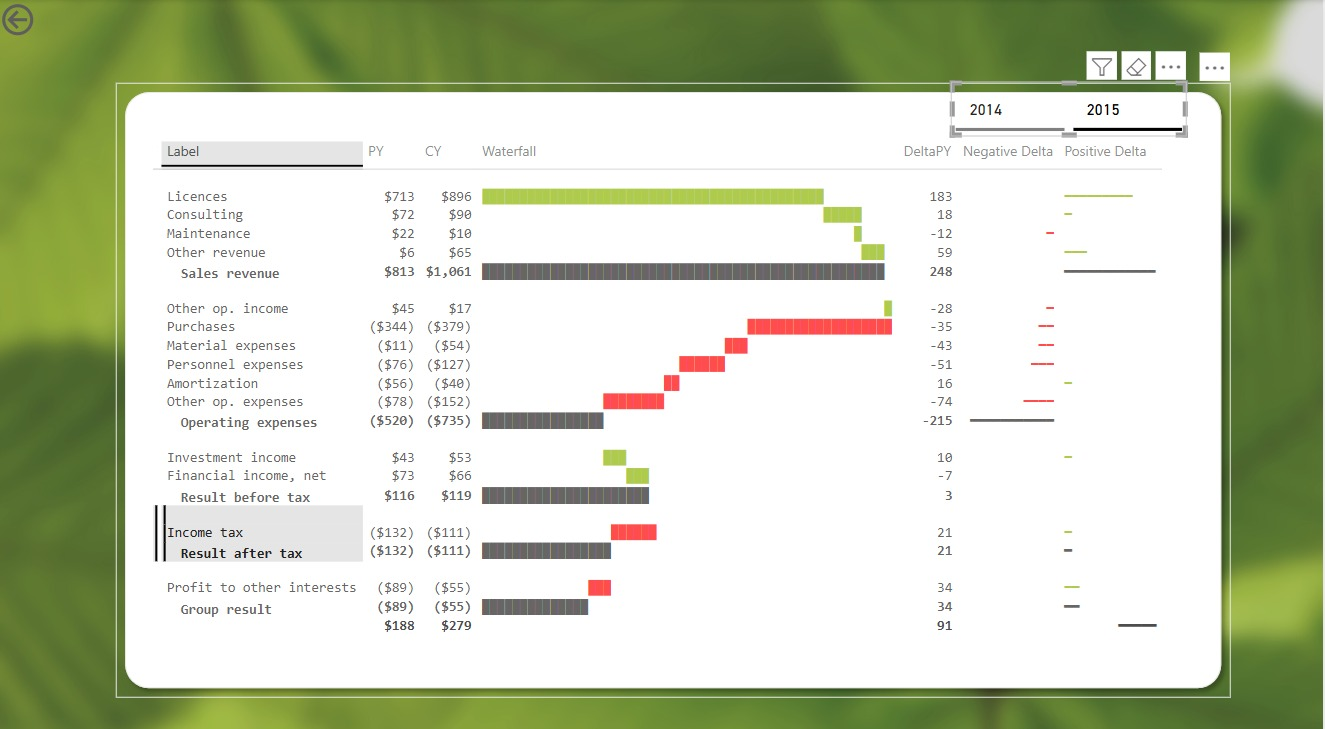

The dashboard page shown, as its layout file describes it:
{"tool":"powerbi","page":{"name":"1","canvas":[1280,720],"ordinal":0},"visuals":[{"type":"shape","box":[114.6,80.8,1076.1,593.6],"z":0},{"type":"advancedSlicerVisual","fields":{"Values":["Dataset.Year"]},"box":[920.1,80.1,228.7,53],"z":1000},{"type":"pivotTable","fields":{"Rows":["Dataset.Total","Dataset.Category"],"Values":["_Measures.Label","_Measures.PY","_Measures.CY","select","_Measures.DeltaPY","_Measures.MaxCY_ByTotal_PerYear","select1","select2"]},"box":[146,132.7,1018.2,510.3],"z":2000},{"type":"actionButton","box":[0,0,100,40],"z":3000}]}

Visuals, with their boxes in screenshot pixels (x1, y1, x2, y2):
shape: (145, 91, 1218, 683)
advancedSlicerVisual - Dataset.Year: (949, 90, 1177, 143)
pivotTable - Dataset.Total x Dataset.Category: (177, 143, 1192, 652)
actionButton: (31, 10, 131, 50)
